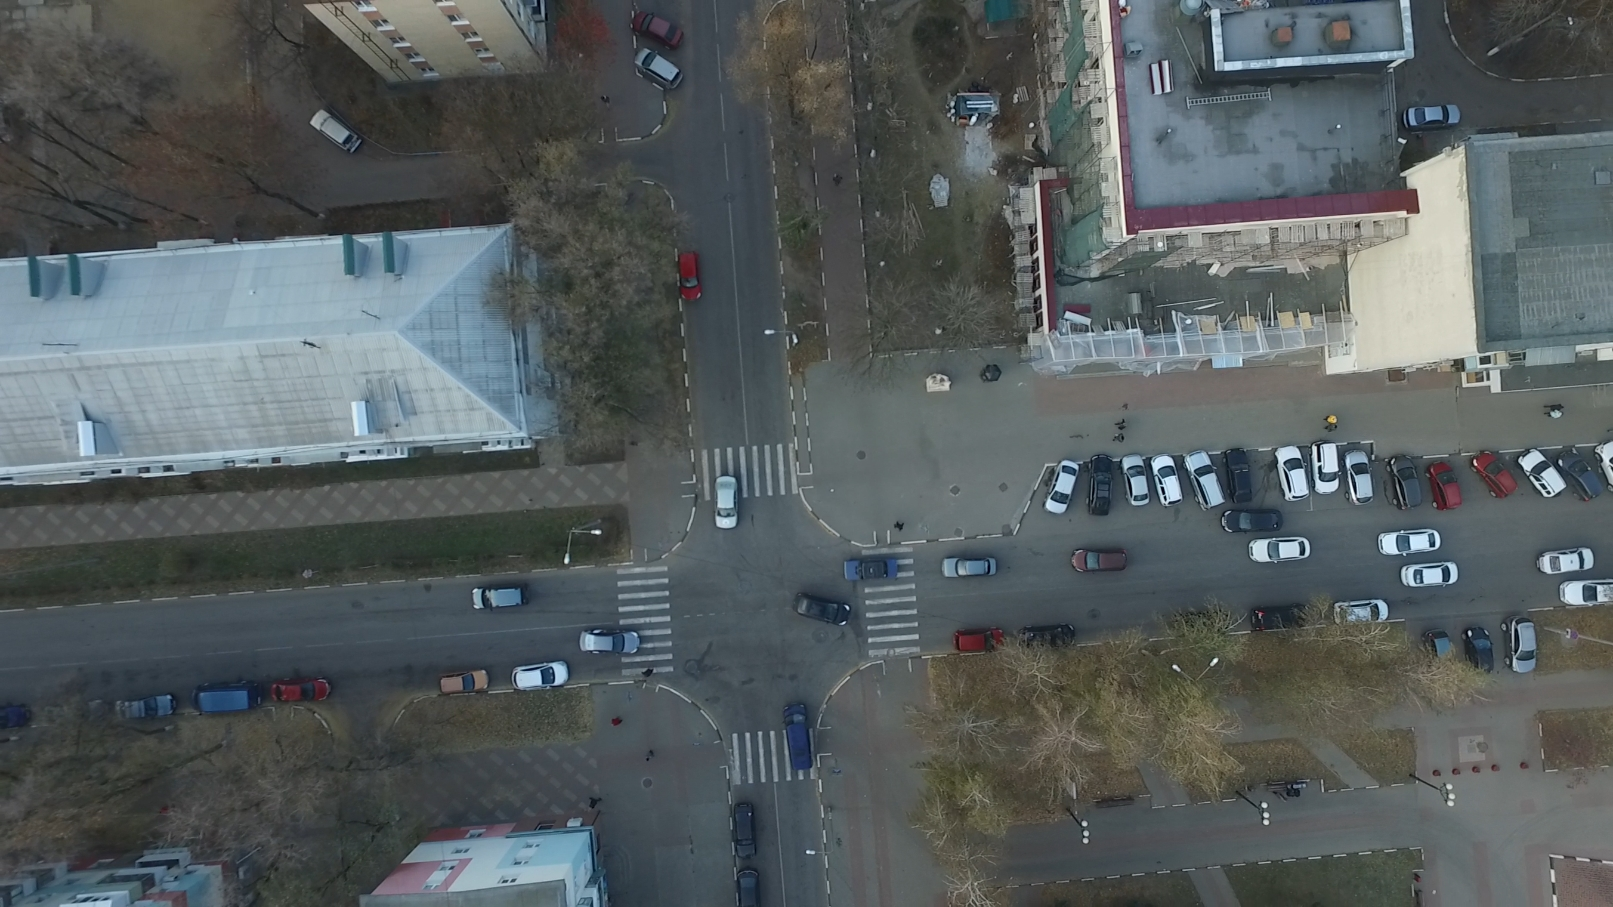car: (1182, 450, 1225, 515), (311, 107, 368, 156), (1553, 449, 1601, 505), (1499, 614, 1538, 677), (192, 681, 265, 714), (1083, 454, 1120, 519), (1517, 450, 1564, 499), (791, 588, 849, 629), (1042, 460, 1083, 516), (1470, 449, 1516, 498), (1385, 452, 1422, 512), (629, 8, 682, 50), (1425, 458, 1465, 514), (1273, 443, 1308, 504), (1150, 454, 1186, 512), (636, 47, 684, 90), (1223, 446, 1256, 505), (1220, 506, 1283, 536), (783, 701, 809, 774), (512, 661, 571, 692), (1376, 527, 1439, 556), (577, 627, 641, 655), (1309, 440, 1339, 498), (1014, 623, 1073, 652), (1121, 453, 1151, 509), (1403, 559, 1460, 588), (1538, 546, 1597, 574), (1462, 626, 1494, 677), (1345, 449, 1374, 505), (48, 695, 113, 720), (273, 679, 332, 705), (1247, 537, 1309, 563), (1401, 104, 1460, 131), (114, 692, 177, 717), (1557, 579, 1613, 606), (1175, 610, 1231, 637), (1331, 597, 1384, 625), (939, 556, 997, 581), (1424, 628, 1455, 674), (712, 476, 739, 530), (469, 585, 525, 610), (1249, 606, 1309, 629), (953, 629, 1006, 656), (1068, 549, 1128, 573), (731, 800, 754, 858), (440, 669, 492, 694), (841, 560, 897, 583), (679, 250, 702, 301), (736, 865, 760, 907), (1, 700, 29, 731)
